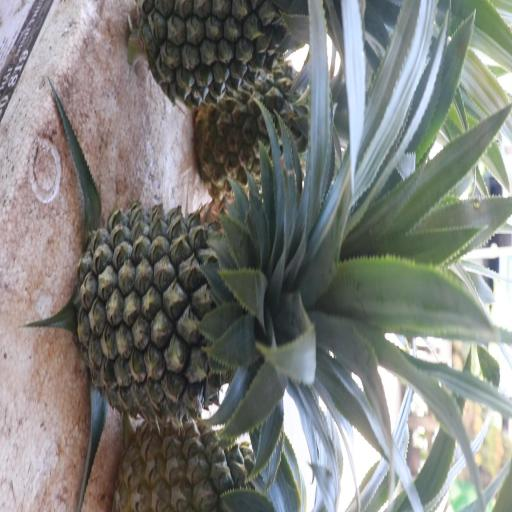------------------------------: (117, 405, 275, 512)
